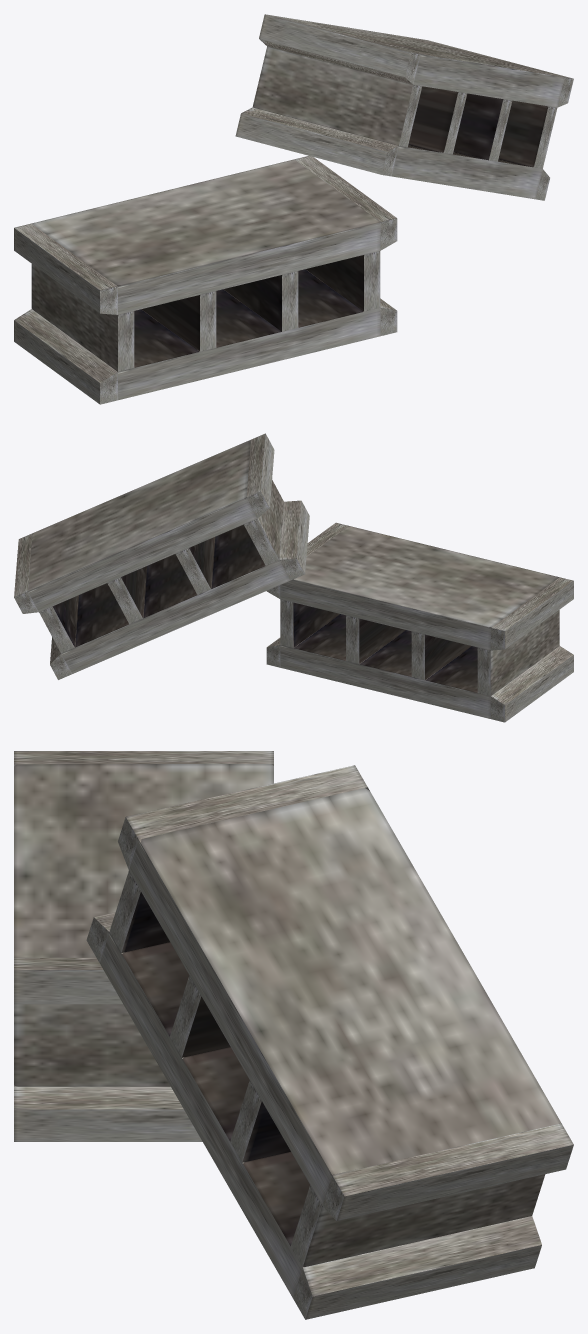
The model's file is blo22.obj.
3 views of the same model, one above another, from view 1: azimuth 30°, elevation 25°; view 2: azimuth 150°, elevation 25°; view 3: azimuth 270°, elevation 25° (orthographic). The views are drawn at different scales.
Visible parts, largest first — view 1: Cube_Cube.001, Cube.001_Cube.002; view 2: Cube_Cube.001, Cube.001_Cube.002; view 3: Cube.001_Cube.002, Cube_Cube.001.
Boxes of the visible parts, <box> form: Cube_Cube.001: <box>14,156,397,404</box>; Cube.001_Cube.002: <box>235,14,573,200</box>; Cube_Cube.001: <box>266,522,573,722</box>; Cube.001_Cube.002: <box>14,433,309,679</box>; Cube.001_Cube.002: <box>86,765,573,1319</box>; Cube_Cube.001: <box>14,751,273,1141</box>.
Size of the model in its own units: 1.26 by 0.4949 by 0.6934.
2 materials, 2 textured.
